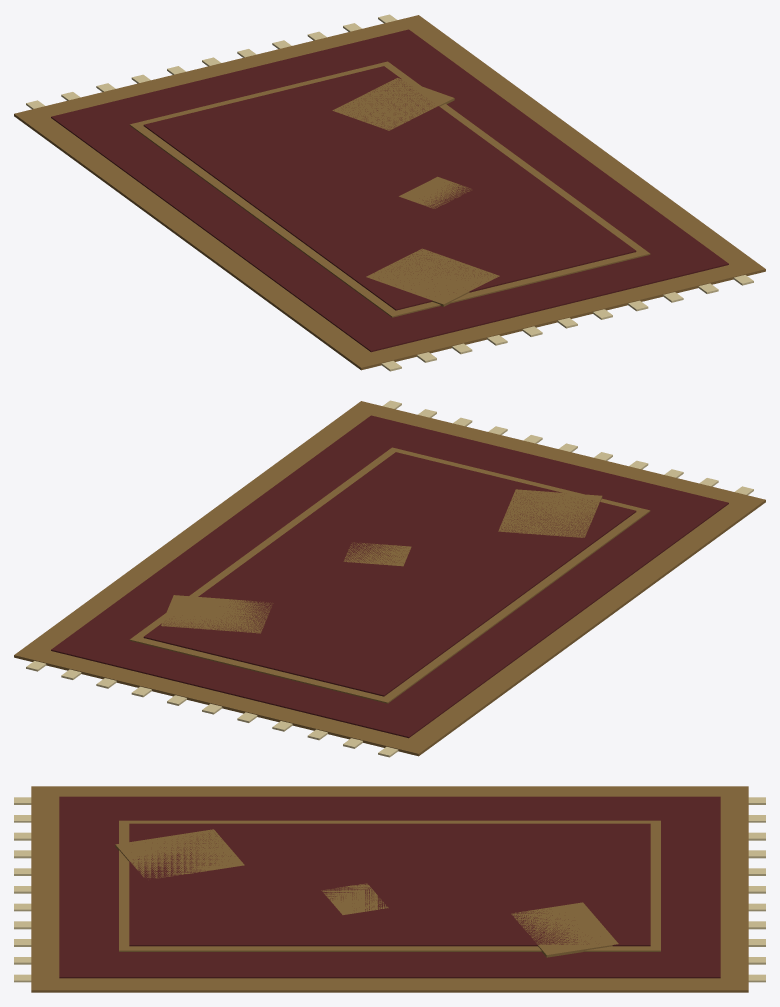
The model's file is rug_worn.glb.
3 renders of one model, top to bottom at view 1: azimuth 30°, elevation 25°; view 2: azimuth 150°, elevation 25°; view 3: azimuth 270°, elevation 25°, orthographic. The views are drawn at different scales.
Visible parts, largest first — view 1: rug_worn; view 2: rug_worn; view 3: rug_worn.
Boxes of the visible parts, <box> form: rug_worn: <box>14,14,765,371</box>; rug_worn: <box>14,400,765,757</box>; rug_worn: <box>14,786,765,992</box>.
Bounding box in the file's own units: 1.38 × 0.02 × 2.15.
